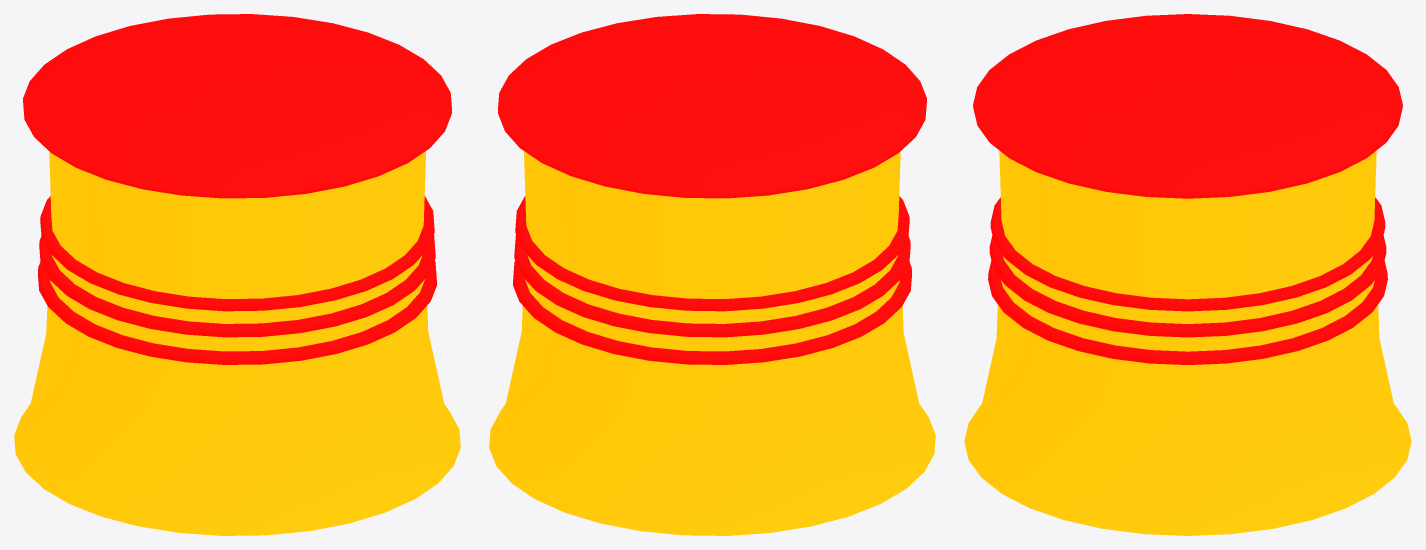
Rendered from Lightringed.FBX.
3 views of the same model, side by side, from view 1: azimuth 30°, elevation 25°; view 2: azimuth 150°, elevation 25°; view 3: azimuth 270°, elevation 25° (orthographic).
Parts seen in each view (by area): view 1: Object001, light, Object002; view 2: Object001, light, Object002; view 3: Object001, light, Object002.
Boxes of the visible parts, box(x1,y1,x2,y2) form: Object001: box(14, 151, 460, 535); light: box(23, 14, 451, 198); Object002: box(38, 196, 436, 364); Object001: box(489, 151, 935, 535); light: box(498, 14, 926, 198); Object002: box(513, 196, 911, 364); Object001: box(964, 150, 1411, 535); light: box(973, 14, 1402, 198); Object002: box(988, 197, 1387, 364).
Size of the model in its own units: 73.44 by 64.46 by 73.44.
